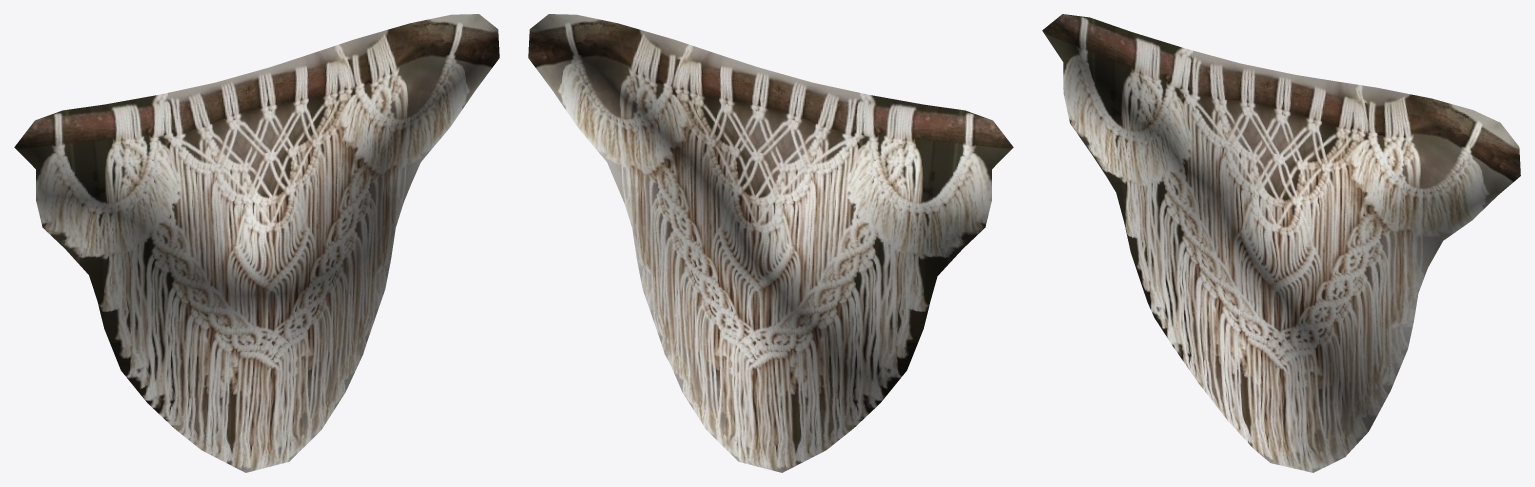
3 renders of one model, left to right at view 1: azimuth 30°, elevation 25°; view 2: azimuth 150°, elevation 25°; view 3: azimuth 330°, elevation 25°, orthographic.
Bounding box in the file's own units: 0.8743 × 0.705 × 0.0597.
1 material, 1 textured.
